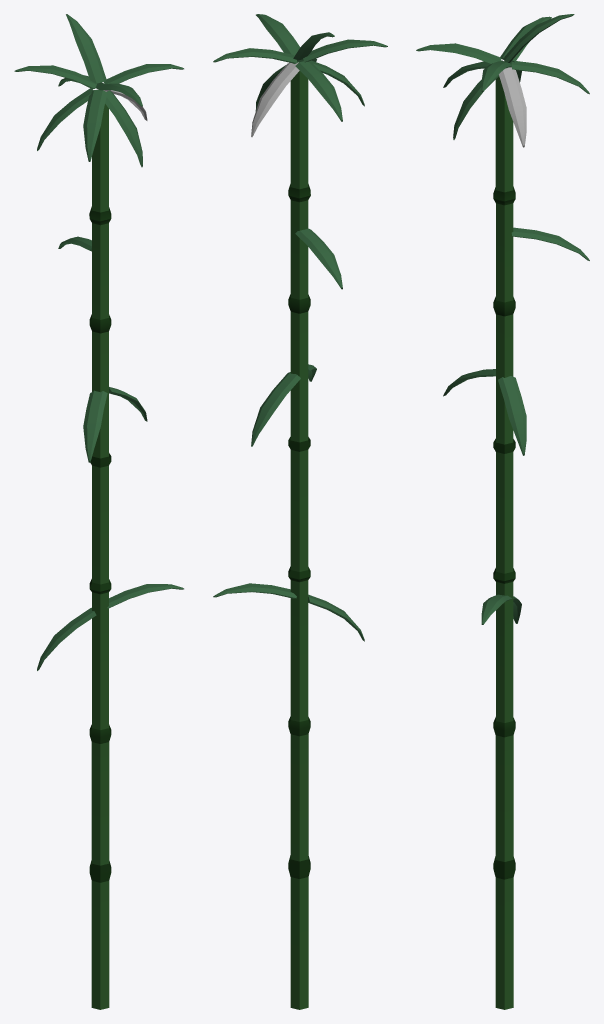
Rendered from bambu.fbx.
3 renders of one model, left to right at view 1: azimuth 30°, elevation 25°; view 2: azimuth 210°, elevation 25°; view 3: azimuth 270°, elevation 25°, orthographic. The views are drawn at different scales.
Visible parts, largest first — view 1: bambu; view 2: bambu; view 3: bambu.
Boxes of the visible parts, box(x1,y1,x2,y2) form: bambu: box(14, 14, 183, 1009); bambu: box(213, 14, 387, 1009); bambu: box(416, 14, 589, 1009).
Size of the model in its own units: 5.96 by 40.3 by 6.4.
